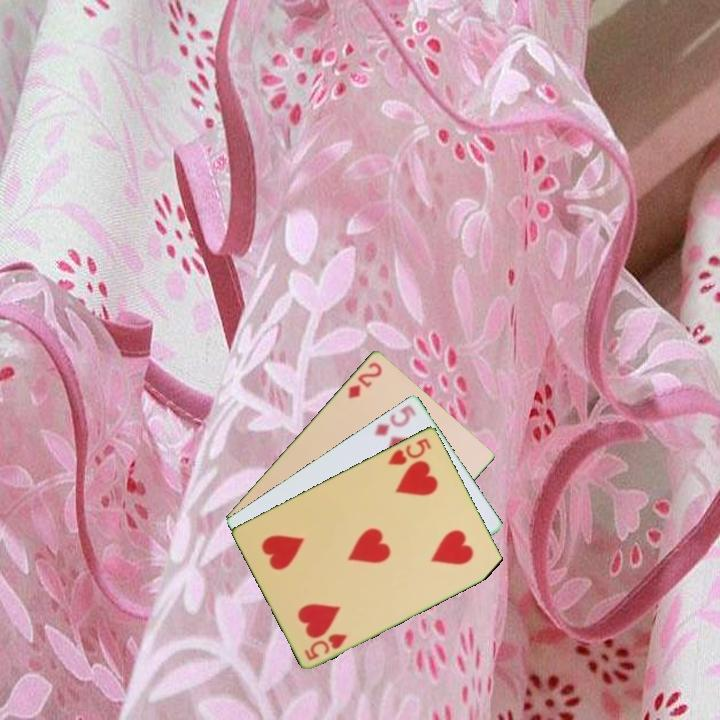2d: (344, 358, 385, 401)
5d: (371, 401, 419, 439)
5h: (384, 434, 434, 468), (301, 629, 350, 663)
